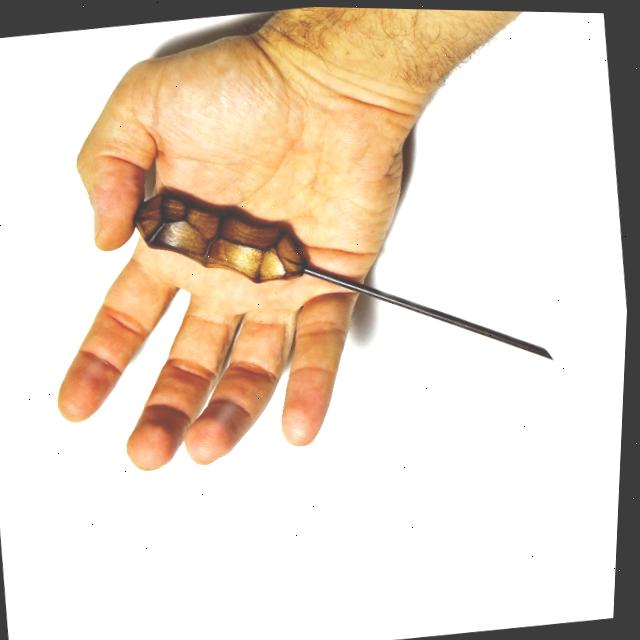ice pick: (125, 141, 564, 406)
